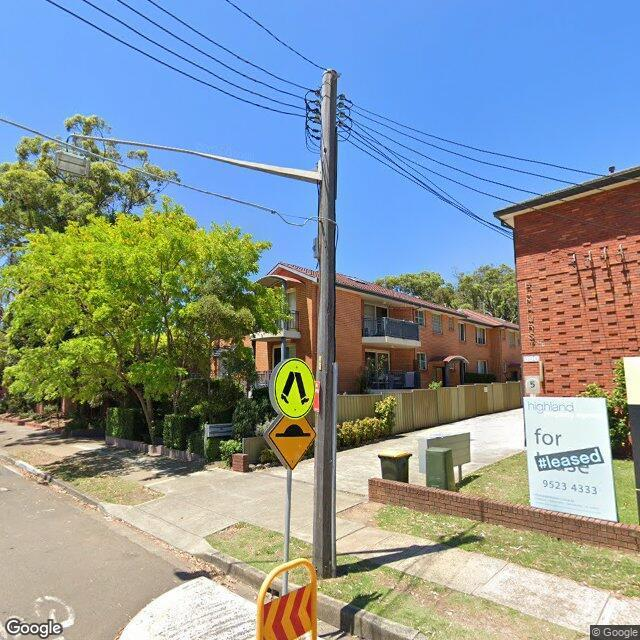streetlight: (54, 134, 322, 185)
timber-pole: (312, 70, 338, 580)
